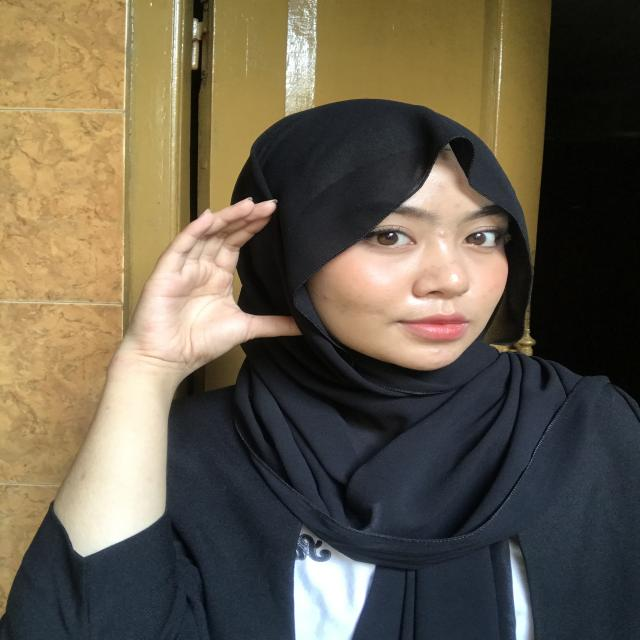mendengar: (100, 187, 306, 373)
